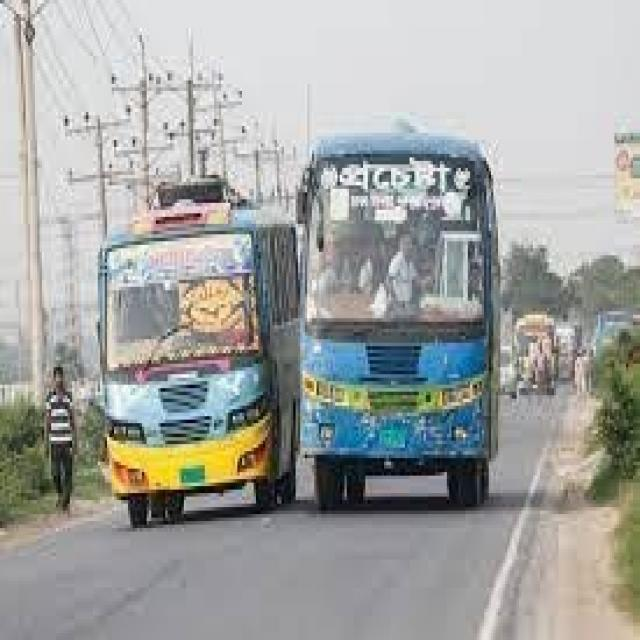bus: (294, 109, 506, 534), (91, 168, 287, 563)
